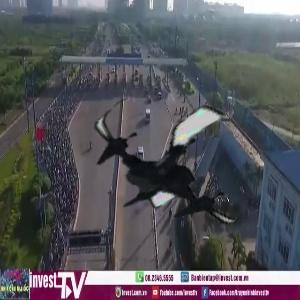drone: (88, 84, 255, 251)
